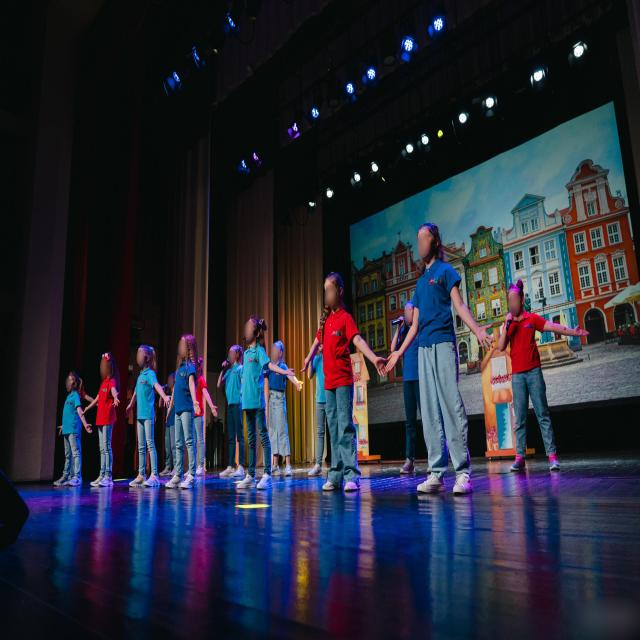Person: (406, 197, 481, 512), (498, 260, 582, 493), (318, 257, 373, 513), (387, 278, 428, 485), (236, 303, 276, 502), (166, 322, 208, 499), (261, 328, 300, 489), (130, 335, 166, 492), (46, 359, 88, 492), (306, 297, 336, 480), (219, 333, 249, 499), (91, 340, 120, 499)
